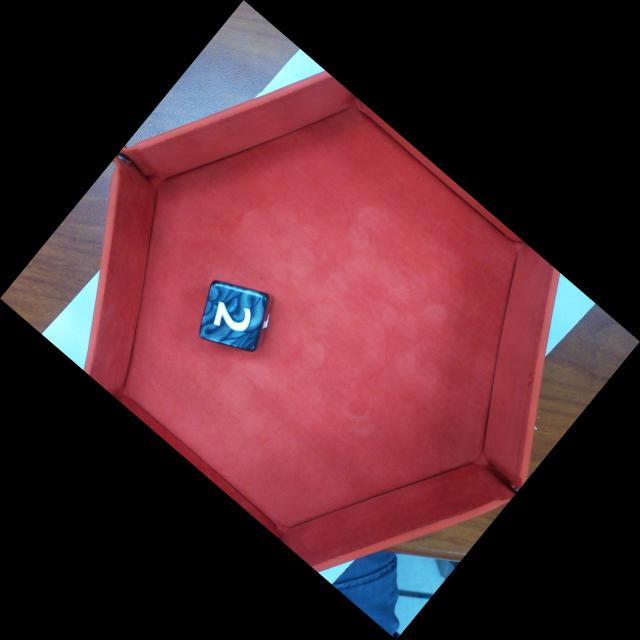dice: (202, 281, 260, 345)
